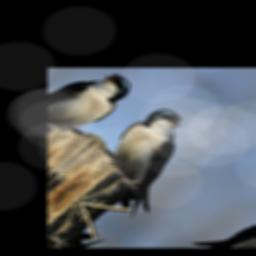Swallow: (69, 101, 227, 223)
